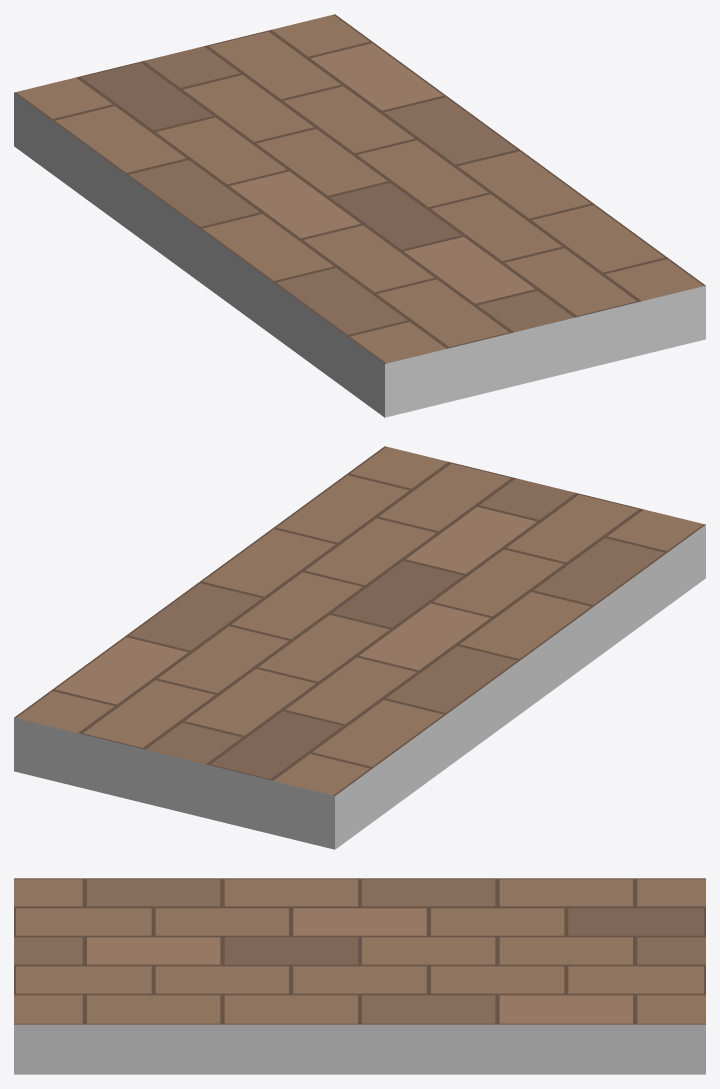
Rendered from Floor16_02.fbx.
The picture shows the model from 3 angles, top to bottom: view 1: azimuth 30°, elevation 25°; view 2: azimuth 150°, elevation 25°; view 3: azimuth 270°, elevation 25°; orthographic projection. The views are drawn at different scales.
Visible parts, largest first — view 1: Floor16_02; view 2: Floor16_02; view 3: Floor16_02.
Part boxes in pixels (x1,y1,x2,y2): Floor16_02: (14, 14, 705, 417); Floor16_02: (14, 446, 705, 849); Floor16_02: (14, 878, 705, 1074).
Size of the model in its own units: 125 by 20 by 250.
